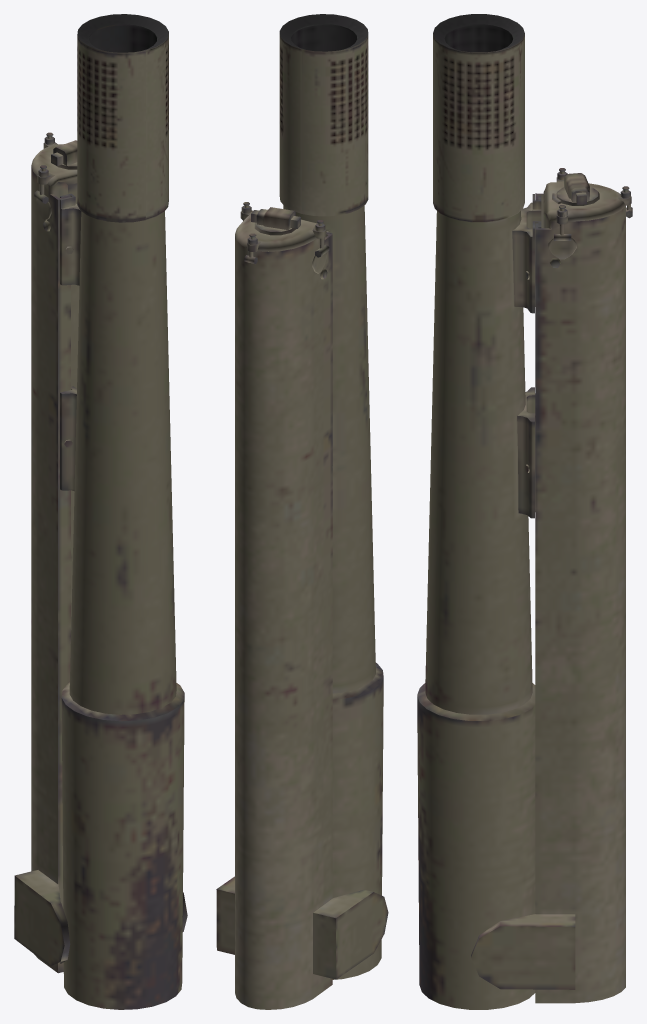
Rendered from Gun_02.glb.
3 renders of one model, left to right at view 1: azimuth 30°, elevation 25°; view 2: azimuth 150°, elevation 25°; view 3: azimuth 270°, elevation 25°, orthographic. The views are drawn at different scales.
Parts seen in each view (by area): view 1: set_0_group_0; view 2: set_0_group_0; view 3: set_0_group_0.
Boxes of the visible parts, x1,y1,x2,y2 form: set_0_group_0: [14, 14, 187, 1009]; set_0_group_0: [216, 14, 388, 1009]; set_0_group_0: [417, 14, 632, 1009].
Bounding box in the file's own units: 0.2444 × 1.77 × 0.3643.
1 material, 1 textured.
